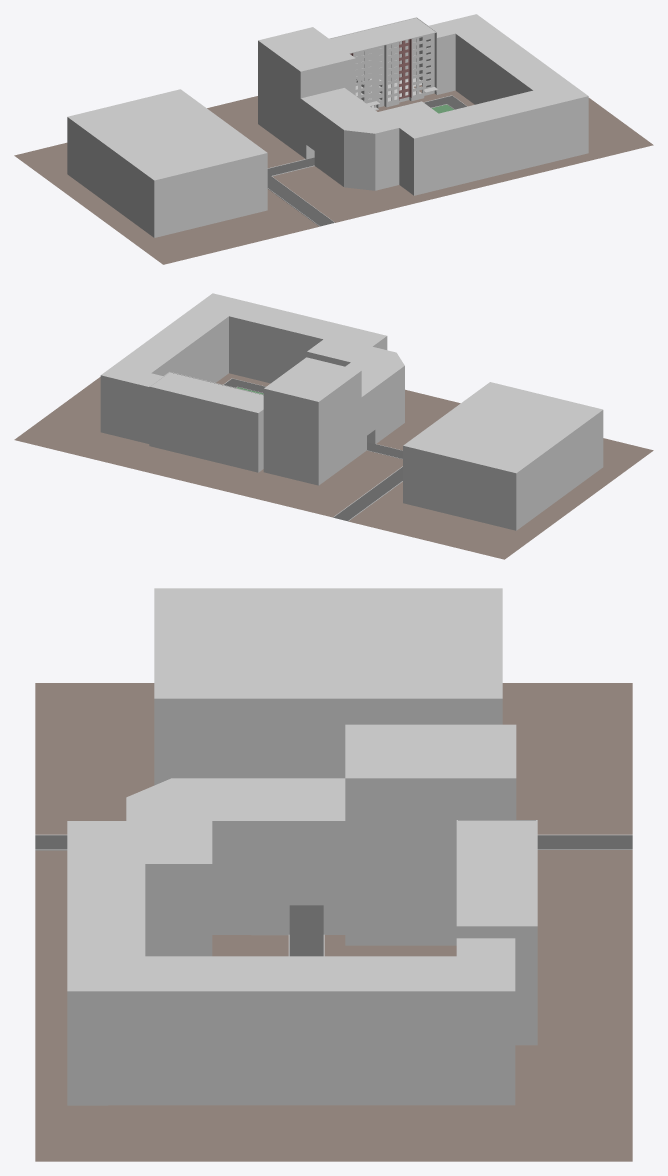
Rendered from doortohell_export.fbx.
The picture shows the model from 3 angles, top to bottom: view 1: azimuth 30°, elevation 25°; view 2: azimuth 150°, elevation 25°; view 3: azimuth 270°, elevation 25°; orthographic projection. The views are drawn at different scales.
Visible parts, largest first — view 1: building1, Cube, Plane.001, building2, roof, road, module_window.003, module_window1.001, module_window1.002, module_window2, balcony.004, balcony (+2 smaller); view 2: Plane.001, Cube, building1, building2, module_window2, roof, road; view 3: building1, Plane.001, Cube, building2, roof, road, sidewall_right.
Boxes of the visible parts, box(x1,y1,x2,y2) form: building1: box(300, 14, 588, 195); Cube: box(67, 89, 267, 237); Plane.001: box(14, 85, 653, 264); building2: box(258, 27, 355, 154); roof: box(329, 17, 436, 53); road: box(267, 96, 466, 226); module_window.003: box(399, 39, 411, 100); module_window1.001: box(386, 42, 398, 103); module_window1.002: box(411, 36, 423, 97); module_window2: box(355, 39, 415, 81); balcony.004: box(422, 35, 434, 90); balcony: box(364, 49, 376, 103); Plane.001: box(14, 373, 653, 559); Cube: box(403, 382, 603, 530); building1: box(100, 293, 404, 453); building2: box(263, 357, 361, 485); module_window2: box(149, 387, 257, 472); roof: box(149, 372, 263, 413); road: box(224, 379, 402, 521); building1: box(67, 778, 515, 1105); Plane.001: box(35, 683, 632, 1161); Cube: box(154, 588, 502, 785); building2: box(345, 724, 516, 945); roof: box(456, 820, 537, 927); road: box(35, 835, 632, 956); sidewall_right: box(456, 927, 537, 1045).
Bounding box in the file's own units: 23491 × 3852 × 12386.
